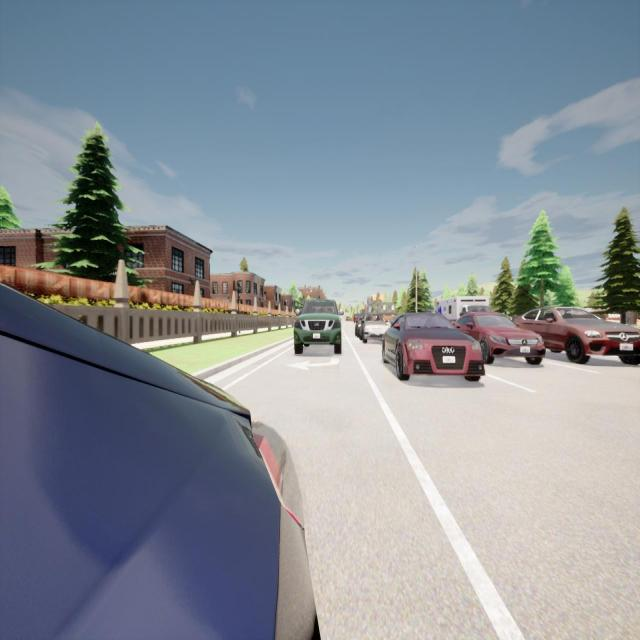Vehicle: (1, 286, 319, 640), (515, 306, 640, 367), (383, 311, 485, 383), (456, 310, 547, 364), (294, 297, 341, 359), (433, 295, 496, 327), (359, 313, 391, 343), (354, 314, 360, 335)
